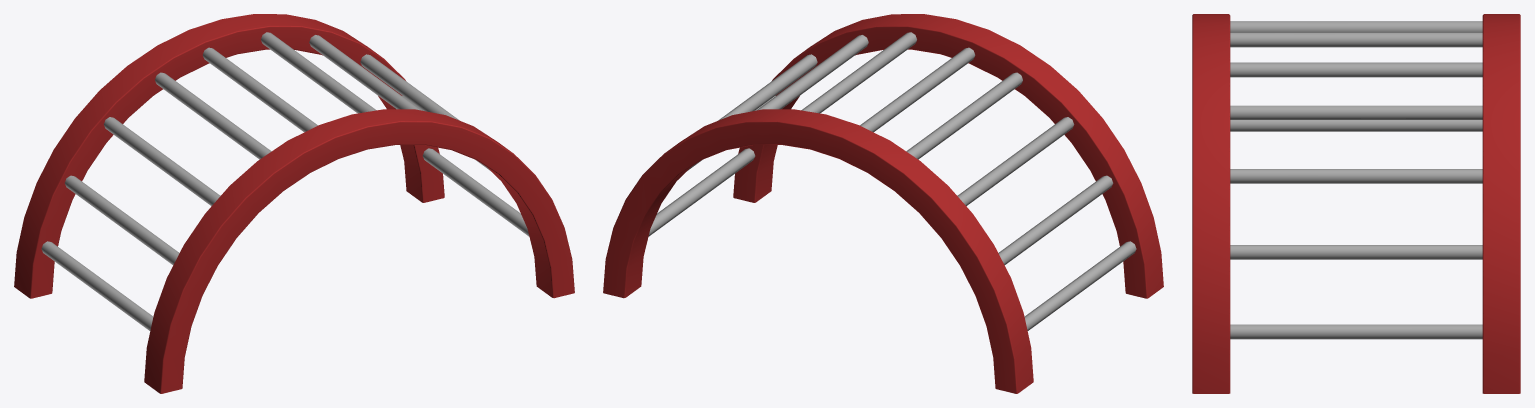
The model's file is sm_jeu_1_LP.fbx.
3 views of the same model, side by side, from view 1: azimuth 30°, elevation 25°; view 2: azimuth 150°, elevation 25°; view 3: azimuth 270°, elevation 25° (orthographic). The views are drawn at different scales.
Visible parts, largest first — view 1: jeu_1_LP; view 2: jeu_1_LP; view 3: jeu_1_LP.
Boxes of the visible parts, <box> form: jeu_1_LP: <box>14,14,574,393</box>; jeu_1_LP: <box>603,14,1163,393</box>; jeu_1_LP: <box>1192,14,1520,393</box>.
Bounding box in the file's own units: 553 × 277 × 340.
